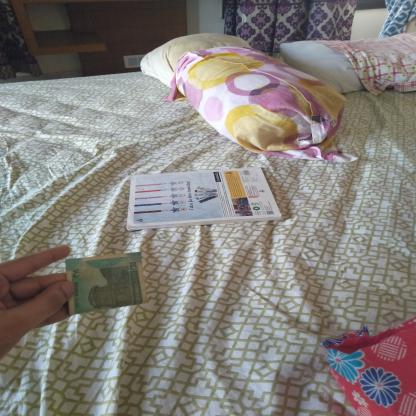New50Back: (66, 252, 145, 312)
